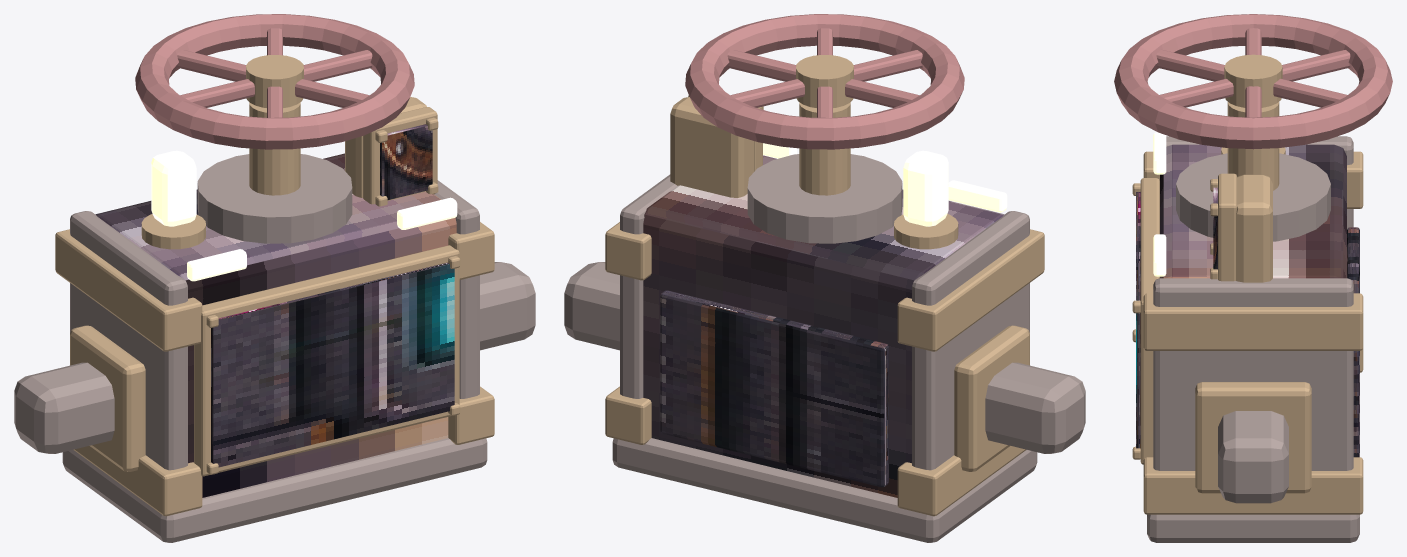
The picture shows the model from 3 angles, left to right: view 1: azimuth 30°, elevation 25°; view 2: azimuth 150°, elevation 25°; view 3: azimuth 270°, elevation 25°; orthographic projection.
Visible parts, largest first — view 1: painted front, shell, red handwheel, base, corner rail, stem collar, panel rim, pipe, collar.001, flange, pipe.001, collar (+16 smaller); view 2: shell, back hatch, red handwheel, base, corner rail, stem collar, pipe, collar.001, gauge, flange, corner rail.001, pipe.001 (+12 smaller); view 3: corner rail.001, red handwheel, shell, collar.003, flange.001, collar.002, stem collar, pipe.001, base, gauge, panel rim, hub (+15 smaller).
Part boxes in pixels (bbox=[...]): painted front: bbox=[211, 262, 454, 467]; shell: bbox=[95, 153, 456, 497]; red handwheel: bbox=[135, 14, 414, 149]; base: bbox=[62, 438, 487, 542]; corner rail: bbox=[70, 211, 187, 470]; stem collar: bbox=[197, 154, 352, 243]; panel rim: bbox=[194, 245, 459, 476]; pipe: bbox=[14, 362, 114, 453]; collar.001: bbox=[55, 229, 202, 351]; flange: bbox=[70, 325, 145, 471]; pipe.001: bbox=[480, 262, 535, 350]; collar: bbox=[73, 446, 202, 516]; shell: bbox=[643, 155, 1004, 497]; back hatch: bbox=[660, 290, 888, 487]; red handwheel: bbox=[685, 14, 964, 149]; base: bbox=[612, 438, 1037, 542]; corner rail: bbox=[912, 211, 1029, 470]; stem collar: bbox=[747, 154, 902, 243]; pipe: bbox=[985, 362, 1085, 453]; collar.001: bbox=[897, 229, 1044, 351]; gauge: bbox=[670, 97, 754, 197]; flange: bbox=[954, 325, 1029, 471]; corner rail.001: bbox=[620, 174, 677, 398]; pipe.001: bbox=[564, 262, 619, 350]; corner rail.001: bbox=[1153, 278, 1353, 470]; red handwheel: bbox=[1114, 14, 1392, 149]; shell: bbox=[1160, 144, 1346, 278]; collar.003: bbox=[1143, 293, 1363, 350]; flange.001: bbox=[1195, 382, 1311, 493]; collar.002: bbox=[1143, 457, 1363, 514]; stem collar: bbox=[1176, 153, 1330, 241]; pipe.001: bbox=[1218, 411, 1288, 503]; base: bbox=[1147, 514, 1359, 542]; gauge: bbox=[1236, 174, 1272, 282]; panel rim: bbox=[1140, 178, 1159, 464]; hub: bbox=[1224, 54, 1282, 107].
Bounding box in the file's own units: 89 × 68.6 × 43.2.
8 materials, 4 textured.
